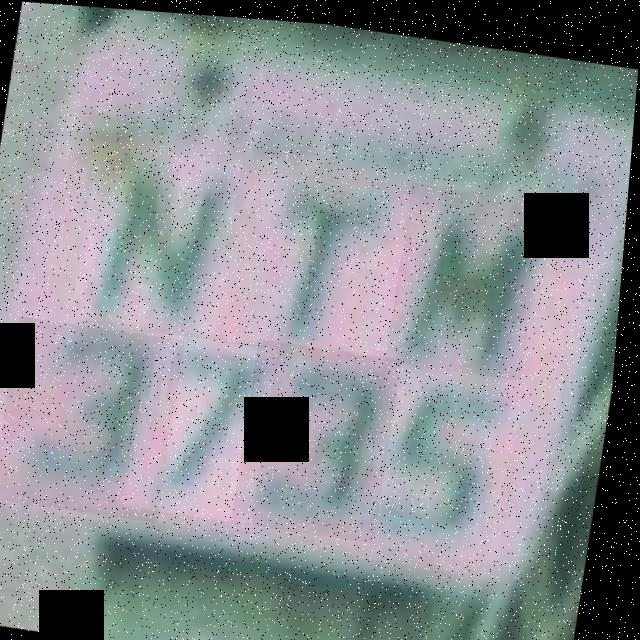3: (0, 315, 190, 520), (238, 334, 408, 537)
5: (371, 358, 530, 540)
7: (131, 328, 283, 520)
N: (75, 138, 244, 333), (390, 175, 550, 373)
T: (252, 165, 390, 348)
